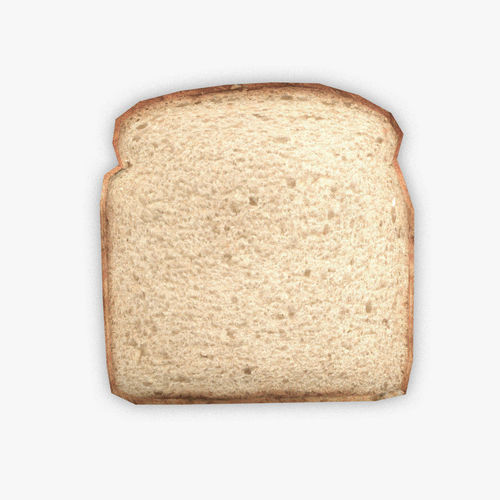slice of bread: (101, 82, 417, 403)
